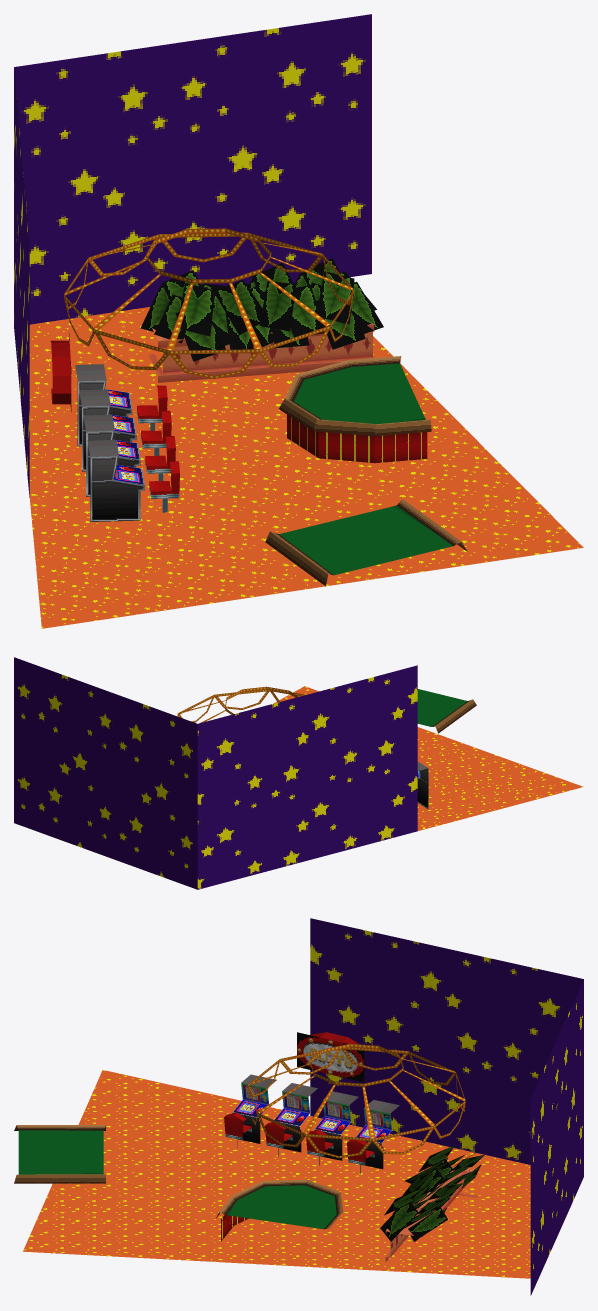
File: casino-interior-fallback.glb
3 renders of one model, top to bottom at view 1: azimuth 30°, elevation 25°; view 2: azimuth 150°, elevation 25°; view 3: azimuth 270°, elevation 25°, orthographic. The views are drawn at different scales.
Visible parts, largest first — view 1: Object_11, Object_3, Object_10, Object_5, Object_6, Object_8, Object_4, Object_9, Object_7, Object_2; view 2: Object_11, Object_3, Object_10, Object_6, Object_8; view 3: Object_3, Object_11, Object_10, Object_6, Object_5, Object_7, Object_8, Object_2, Object_9, Object_4.
Part boxes in pixels (x1,y1,x2,y2): Object_11: (14,14,371,497); Object_3: (29,307,583,628); Object_10: (265,356,467,586); Object_5: (140,258,383,361); Object_6: (64,228,353,378); Object_8: (75,364,144,521); Object_4: (149,323,374,382); Object_9: (137,385,179,512); Object_7: (105,389,144,484); Object_2: (50,333,71,411); Object_11: (14,657,417,889); Object_3: (273,686,583,830); Object_10: (417,689,476,733); Object_6: (177,686,305,722); Object_8: (417,761,428,809); Object_3: (23,1070,530,1278); Object_11: (310,918,583,1295); Object_10: (14,1125,342,1241); Object_6: (248,1043,465,1158); Object_5: (380,1145,484,1241); Object_7: (233,1083,391,1143); Object_8: (232,1074,399,1169); Object_2: (297,1032,364,1082); Object_9: (224,1112,374,1174); Object_4: (385,1165,478,1261).
Bounding box in the file's own units: 111 × 44.92 × 117.
10 materials, 10 textured.
